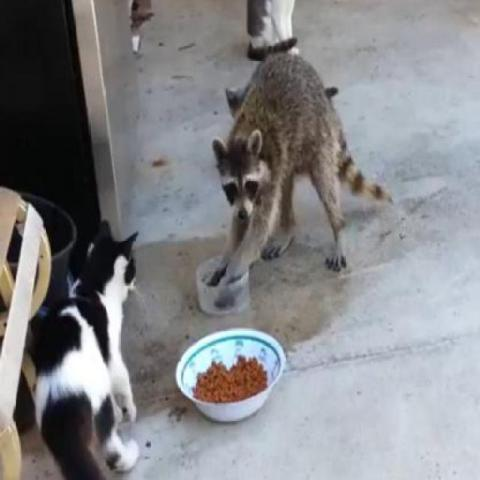small_animal: (209, 48, 393, 284)
